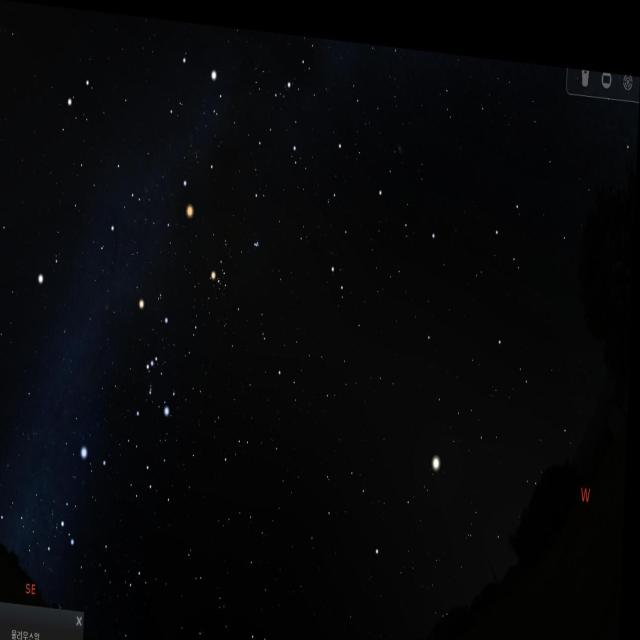canis_major: (59, 432, 108, 563)
canis_minor: (36, 247, 70, 304)
gemini: (61, 73, 152, 231)
orion: (130, 290, 184, 431)
pleiades: (250, 225, 264, 251)
taurus: (202, 202, 273, 320)
